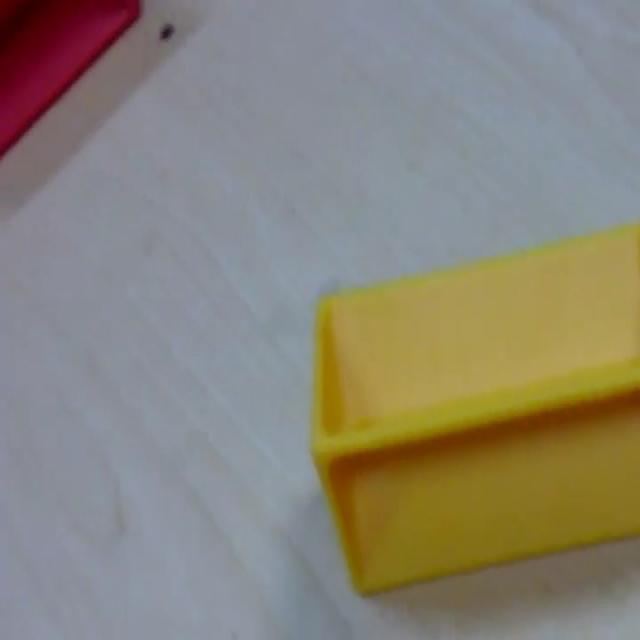yellow_block: (309, 218, 639, 598)
